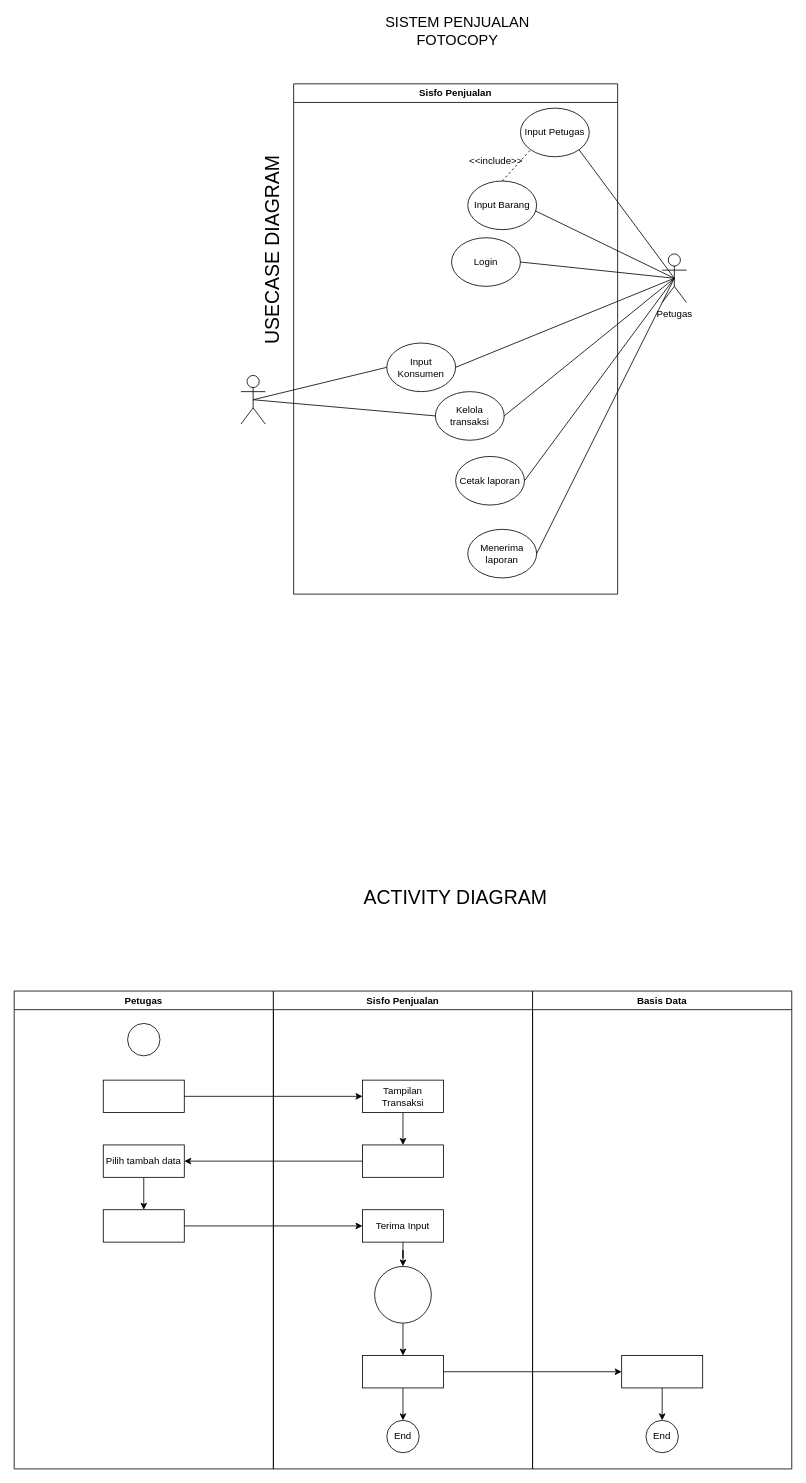
The diagram is 806 pixels wide and 1483 high, and some of its shapes have lost their labels. The centre of each missing label's shape, as x and y in pixels:
Cetak Nota: the point at 402,1371
Input data: the point at 143,1225
Konsumen: the point at 252,399
Mulai: the point at 143,1039
Pilih Transaksi: the point at 143,1096
Simpan Data: the point at 662,1371
Tampil Pilihan transaksi: the point at 402,1160
Validasi: the point at 402,1294
